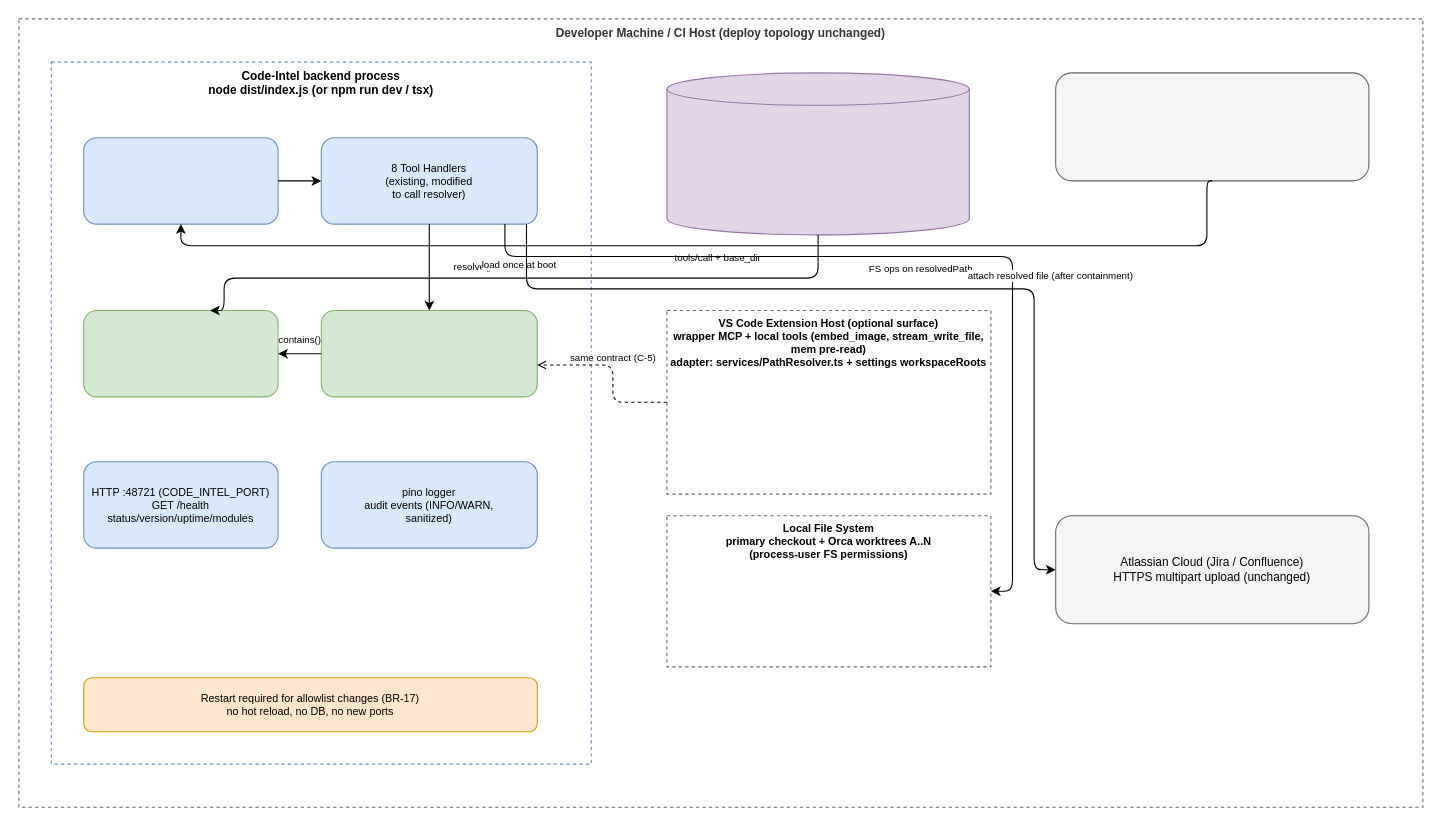
Some shapes in this 1442 by 826 pixel diagram are drawn without their labels. Here are the shapes that lost their labels. From the top down, the centre of each, then its label:
At pixel 1212 126: "AI Agent Sessions (MCP clients) one per worktree / checkout".
At pixel 817 153: "Configuration (env / file) MCP_WORKSPACE_ROOTS MCP_WORKSPACE_ROOTS_FILE".
At pixel 180 180: "MCP Transport POST /mcp (apiKeyAuth) | stdio POST /tools".
At pixel 180 353: "WorkspaceAllowlist (NEW, in-memory Set, BR-13)".
At pixel 428 353: "MultiWorktreePathResolver (NEW singleton, DI)".
